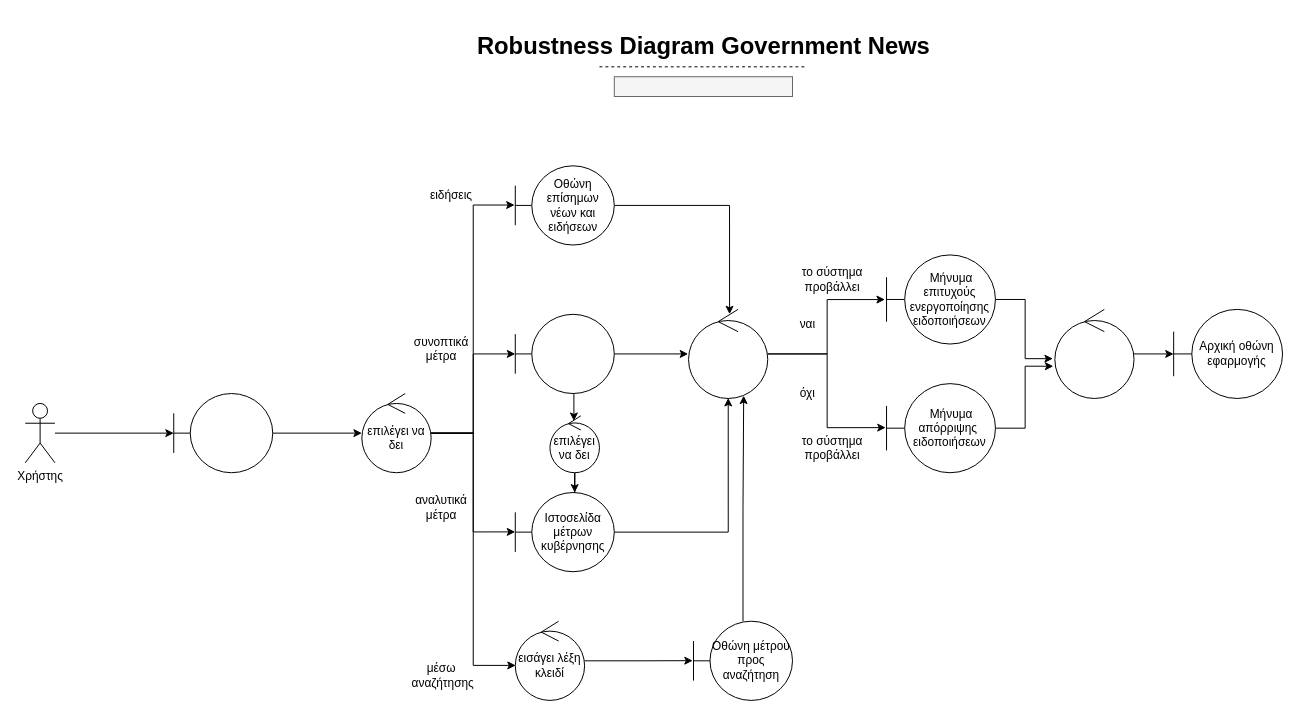
The diagram is 1300 pixels wide and 718 high, and some of its shapes have lost their labels. The shapes that lost their labels are listed below. From the top down, each one's centre as x and y in pixels, then its label:
(x=702, y=86): Pandaemon | 3May ,2021
(x=564, y=353): Οθώνη συνοπτικών μέτρων
(x=728, y=353): Επιθυμεί ειδοποιήσεις;
(x=1094, y=353): μεταβαίνει
(x=223, y=433): Οθώνη επίσημων Κυβερνητικών Μέτρων
